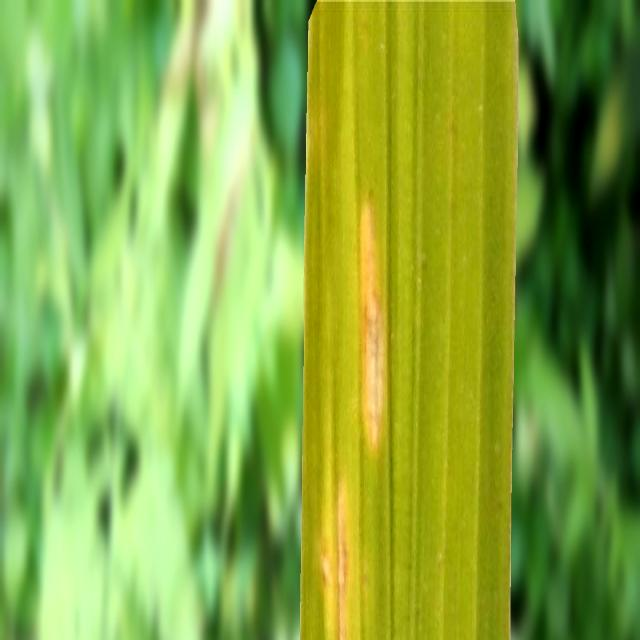BLS: (360, 197, 385, 452), (319, 484, 346, 640)
